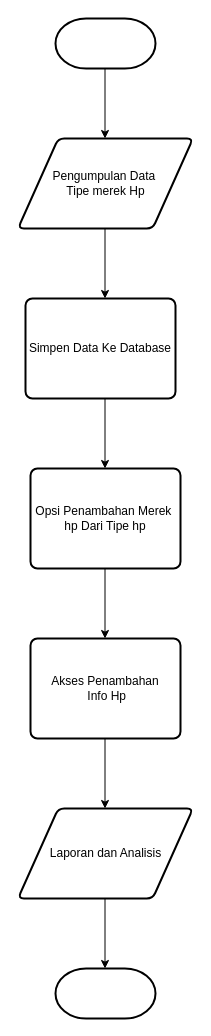
The diagram is 211 pixels wide and 1036 high, and some of its shapes have lost their labels. Here are the shapes that lost their labels. From the top down, the centre of each, then its label:
At point (105, 43): "Mulai".
At point (105, 993): "Selesai".
